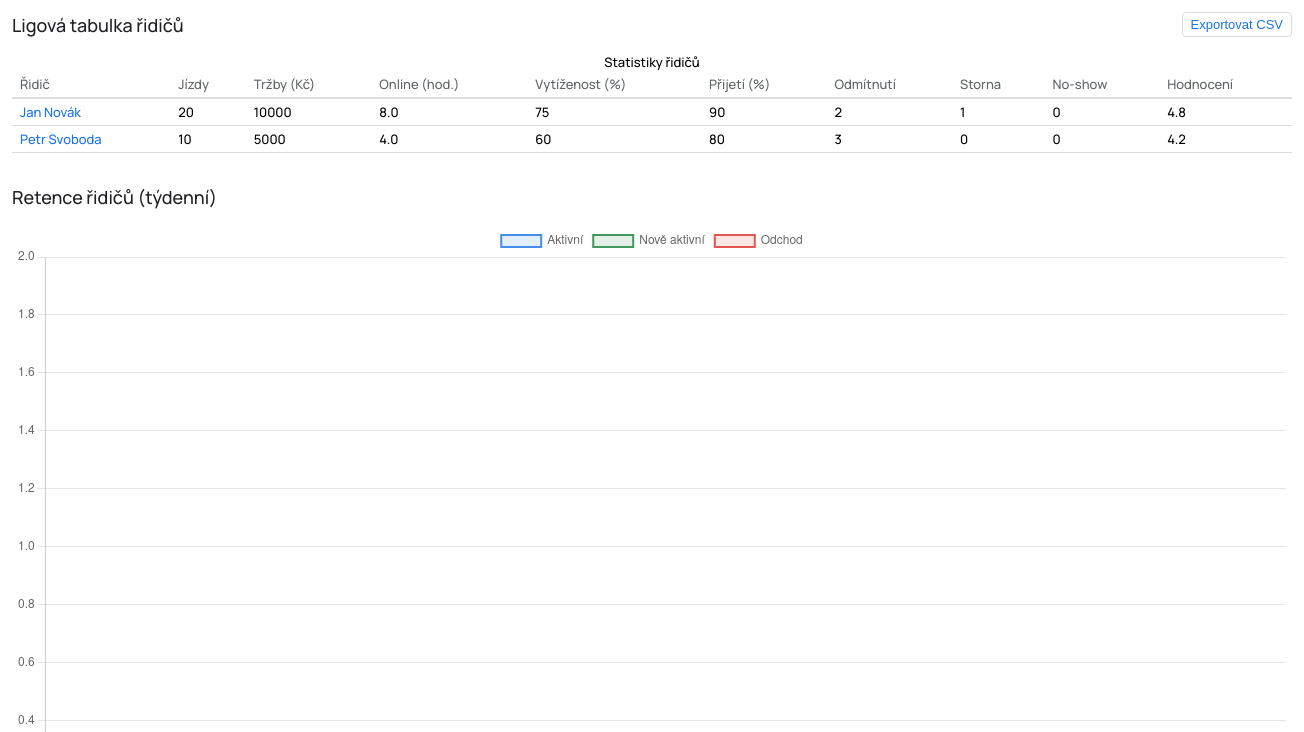
Test: DriversTab › opens drill-down when clicking a driver row
The image size is (1304, 732).
Click the button "Jan Novák".
click(99, 112)  # box [12,99,186,125]
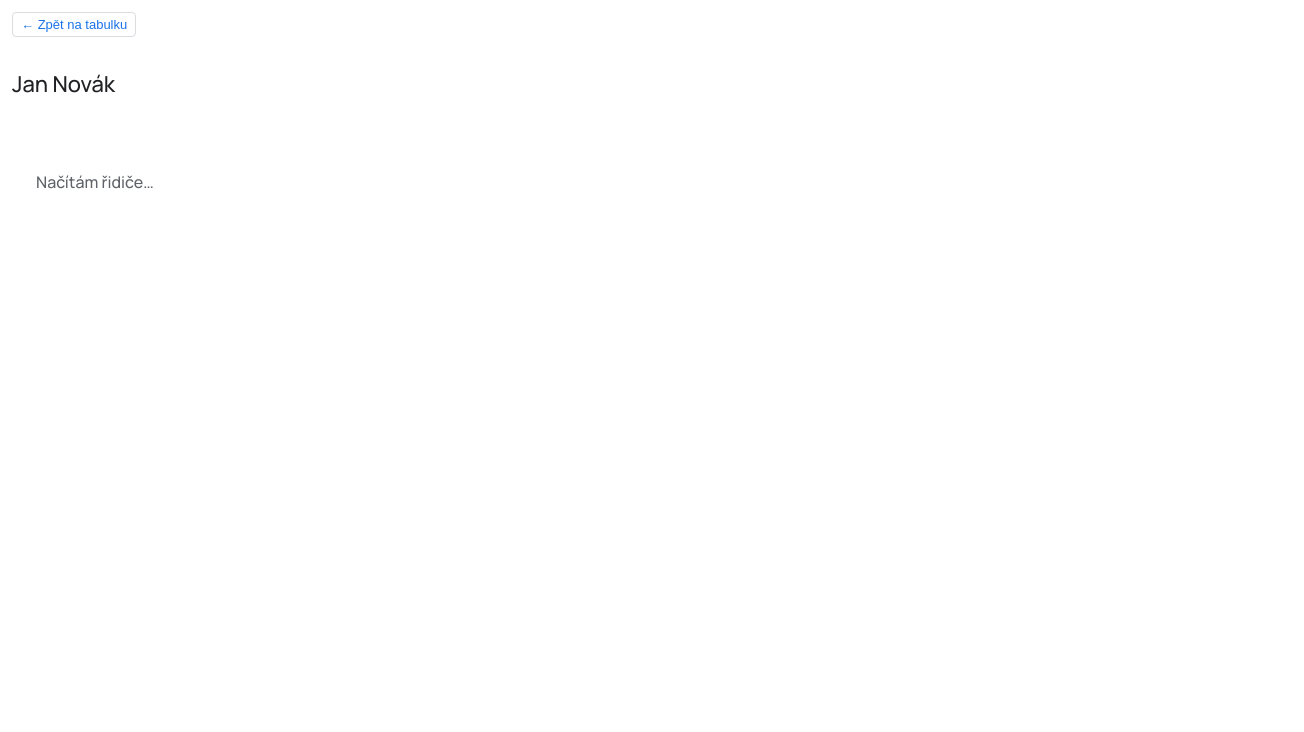
Now the button "← Zpět na tabulku" is shown, box [12,12,136,37]
